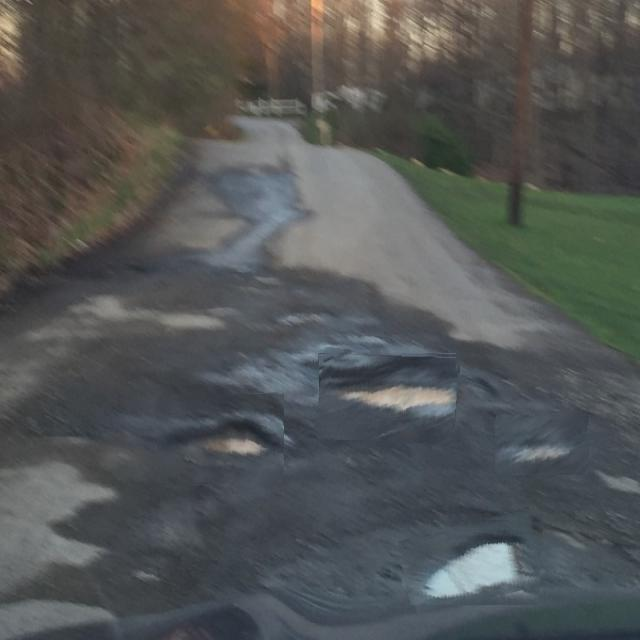Pothole: (317, 350, 458, 443), (402, 515, 543, 605), (156, 394, 284, 486), (495, 412, 589, 475)
